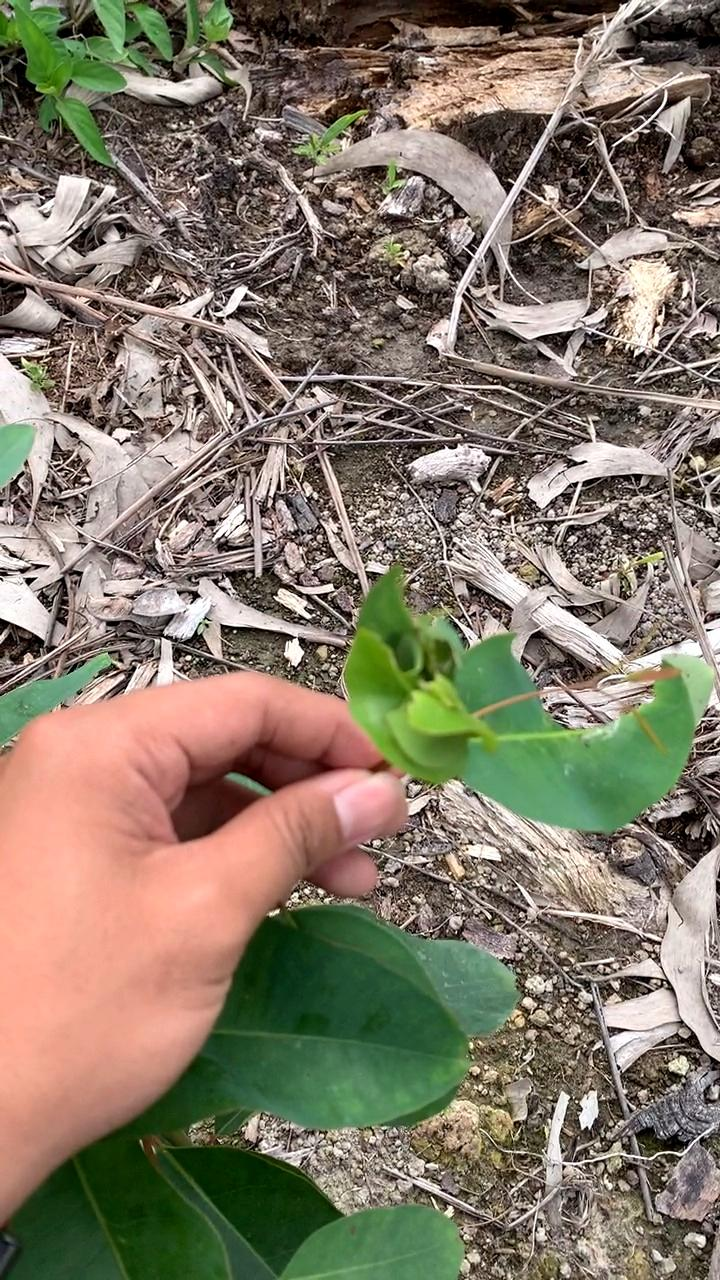Leaf Roller - Leaf: (346, 570, 707, 829)
